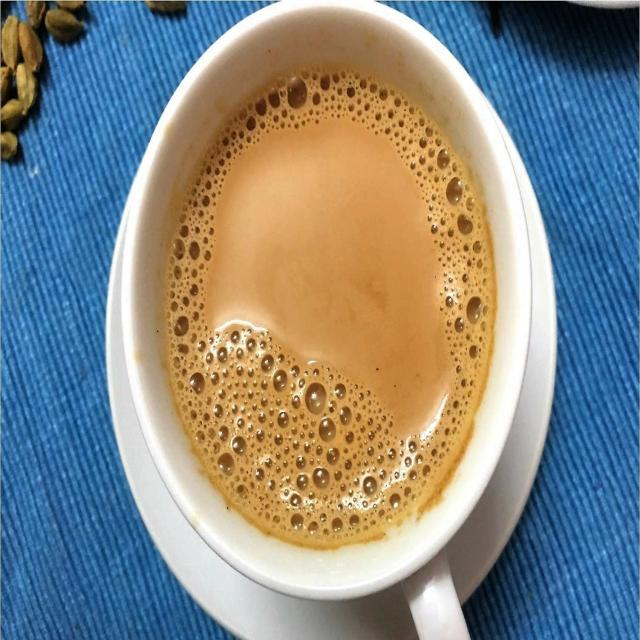Chai: (156, 65, 493, 549)
